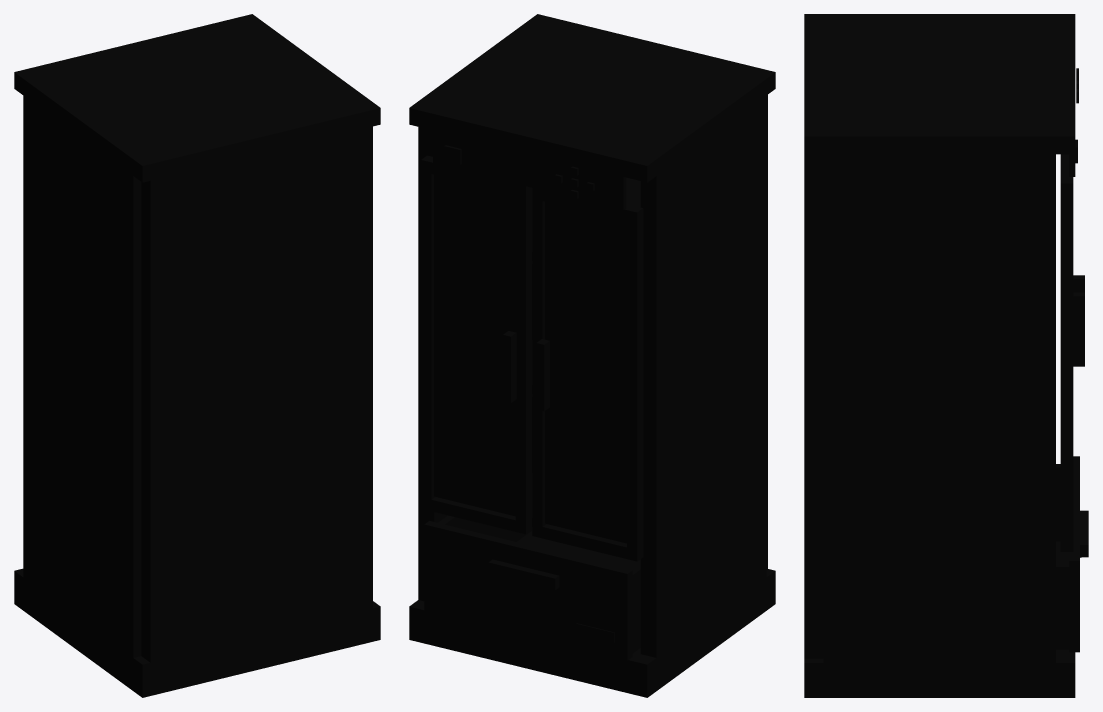
The model's file is lab_cryo_cabinet.obj.
3 views of the same model, side by side, from view 1: azimuth 30°, elevation 25°; view 2: azimuth 150°, elevation 25°; view 3: azimuth 270°, elevation 25° (orthographic). The views are drawn at different scales.
Size of the model in its own units: 0.4102 by 0.875 by 0.402.
